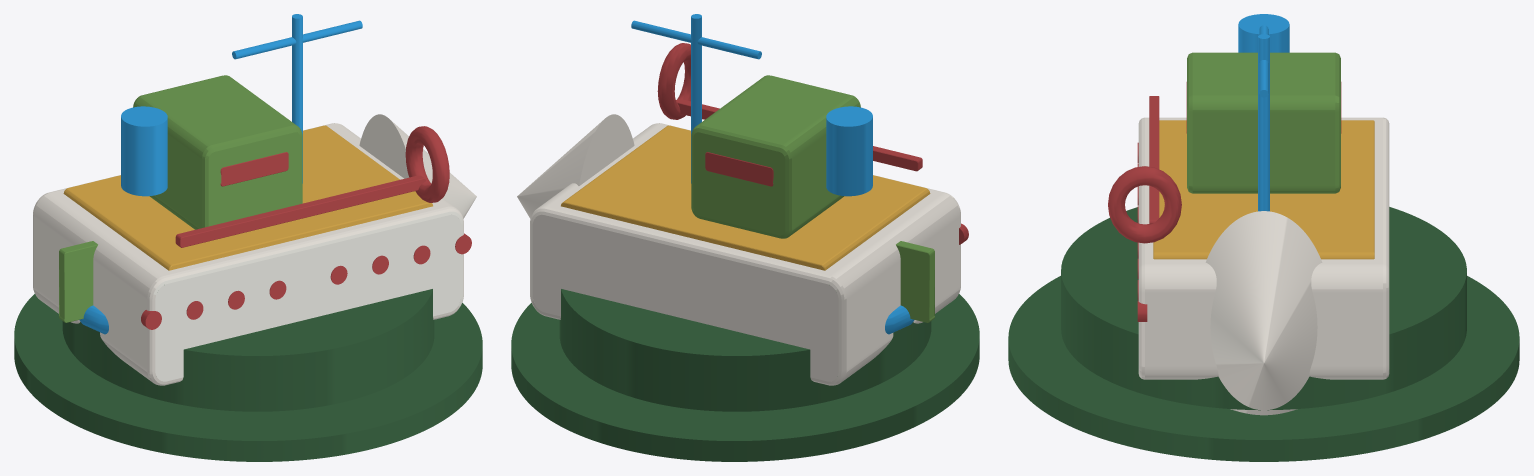
File: 0561_伟大的发明图鉴_飞行者一号.glb
The picture shows the model from 3 angles, left to right: view 1: azimuth 30°, elevation 25°; view 2: azimuth 150°, elevation 25°; view 3: azimuth 270°, elevation 25°; orthographic projection. The views are drawn at different scales.
Visible parts, largest first — view 1: card_0561; view 2: card_0561; view 3: card_0561.
Part boxes in pixels (x1,y1,x2,y2): card_0561: [14, 14, 482, 461]; card_0561: [511, 14, 979, 461]; card_0561: [1008, 14, 1519, 461].
Size of the model in its own units: 1.35 by 1 by 1.33.
